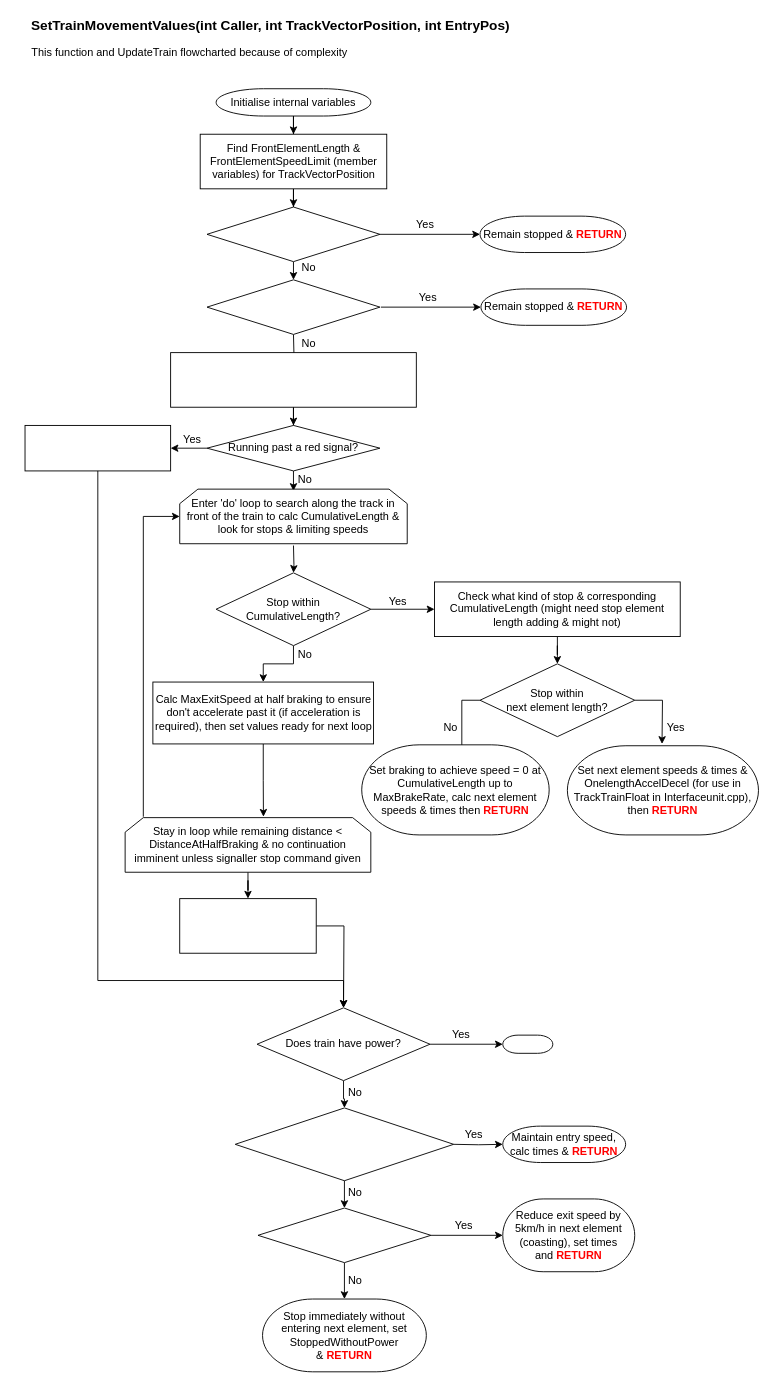
Some shapes in this 774 by 1388 pixel diagram are drawn without their labels. The shapes that lost their labels are listed below. From the top down, each one's box as (x1, y1, x2, y2) in pixels, then its label:
(206, 206, 380, 262): Stopped & other train directly in front?
(206, 279, 380, 334): Stopped & no power?
(170, 352, 416, 407): Set LimitingSpeed for next element & FrontElementMaxSpeed (internal variables)
(24, 425, 171, 471): Set SPADFlag, apply full braking & calc next element speeds & times
(179, 898, 316, 953): Set final braking or acc'n speed & time values
(502, 1034, 553, 1053): RETURN
(234, 1107, 454, 1181): Is any part of train on an entry or exit continuation?
(257, 1207, 431, 1263): Is speed > 7.5km/h?
